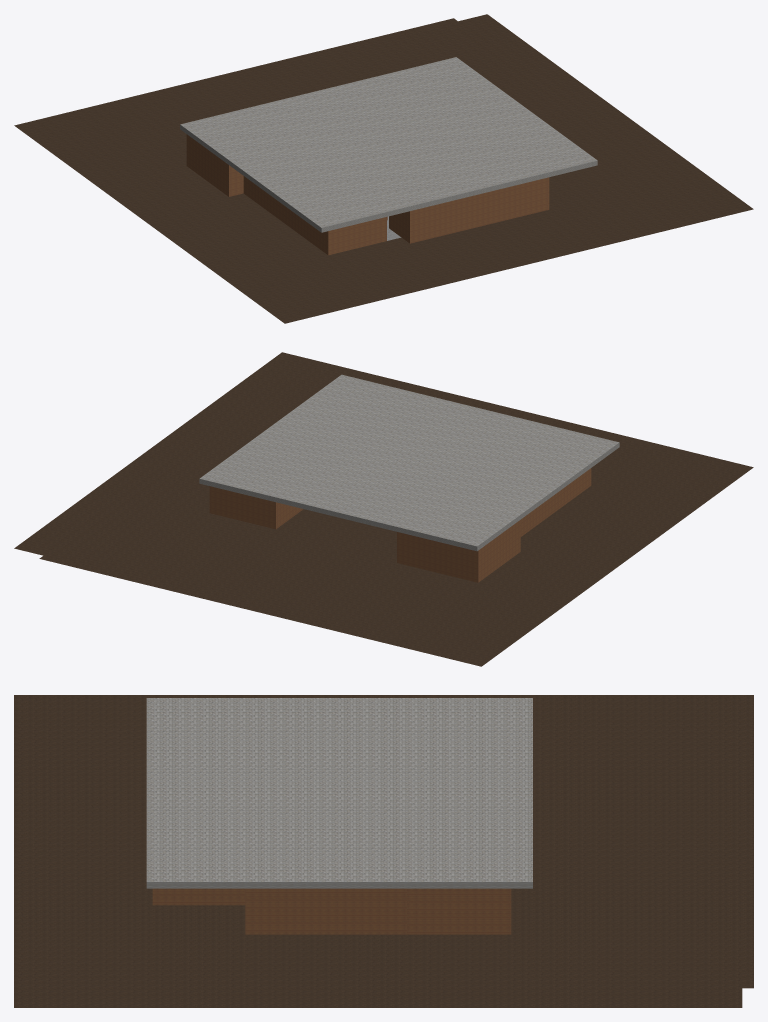
The model's file is CafeMap.fbx.
3 views of the same model, one above another, from view 1: azimuth 30°, elevation 25°; view 2: azimuth 150°, elevation 25°; view 3: azimuth 270°, elevation 25° (orthographic). The views are drawn at different scales.
Parts seen in each view (by area): view 1: Outside, Ceiling, Walls; view 2: Outside, Ceiling, Walls; view 3: Outside, Ceiling, Walls.
Boxes of the visible parts, x1,y1,x2,y2 form: Outside: [14, 14, 753, 323]; Ceiling: [180, 57, 597, 232]; Walls: [186, 134, 549, 255]; Outside: [14, 352, 753, 666]; Ceiling: [199, 374, 619, 551]; Walls: [209, 468, 591, 582]; Outside: [14, 695, 753, 1007]; Ceiling: [146, 698, 532, 888]; Walls: [152, 888, 511, 934].
Size of the model in its own units: 6237 by 504 by 6237.
